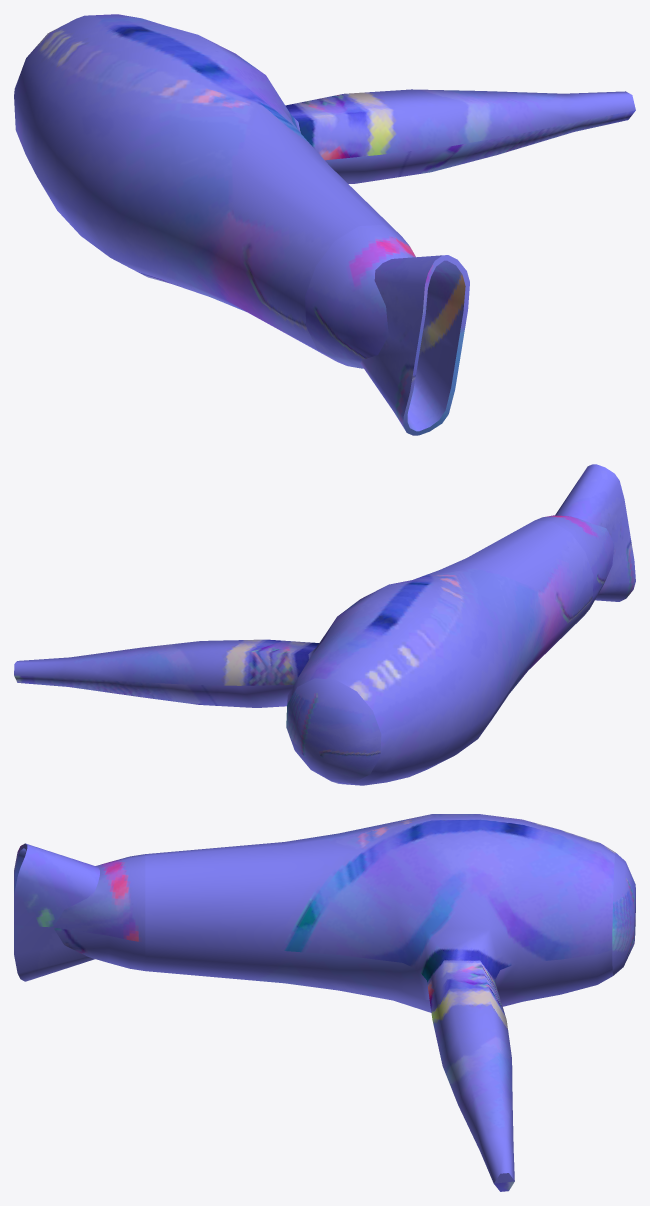
Rendered from Hairdryer.glb.
3 renders of one model, top to bottom at view 1: azimuth 30°, elevation 25°; view 2: azimuth 150°, elevation 25°; view 3: azimuth 270°, elevation 25°, orthographic. The views are drawn at different scales.
Parts seen in each view (by area): view 1: Hairdryer; view 2: Hairdryer; view 3: Hairdryer.
Boxes of the visible parts, x1=… form: Hairdryer: x1=14, y1=14, x2=635, y2=435; Hairdryer: x1=14, y1=464, x2=635, y2=785; Hairdryer: x1=14, y1=814, x2=635, y2=1191.
Size of the model in its own units: 3.14 by 1.12 by 3.47.
Materials: 1 (1 with a texture image).
